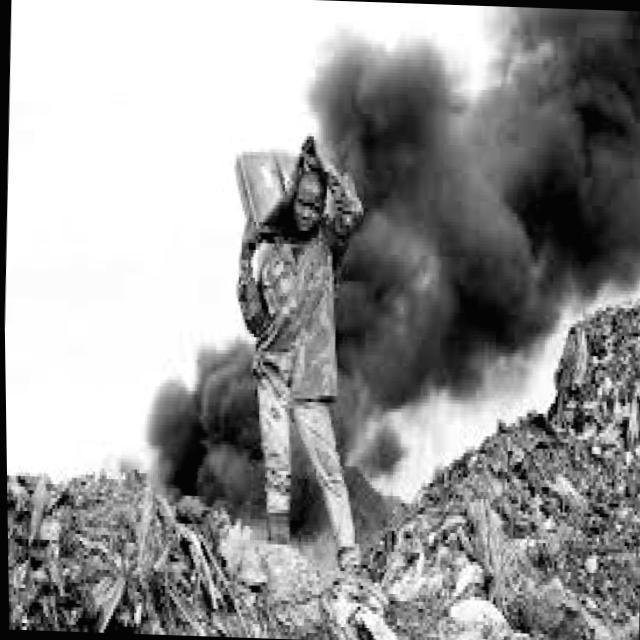no_helmet: (323, 0, 640, 431)
